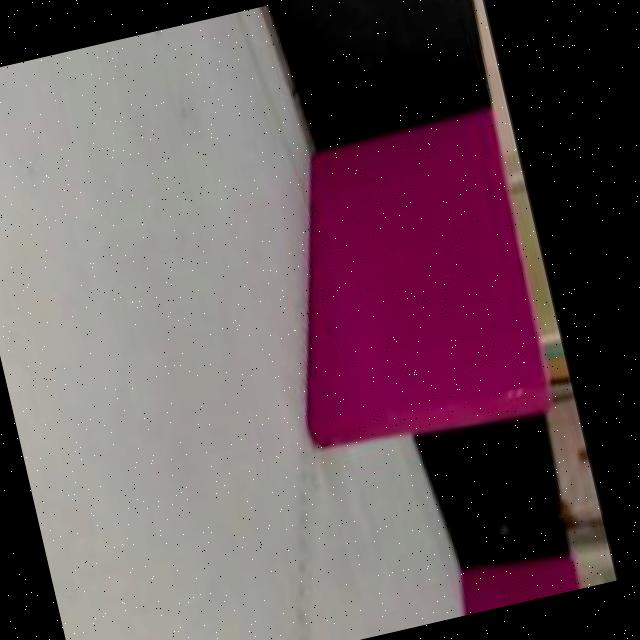xparking: (262, 114, 550, 452), (462, 557, 584, 614)
